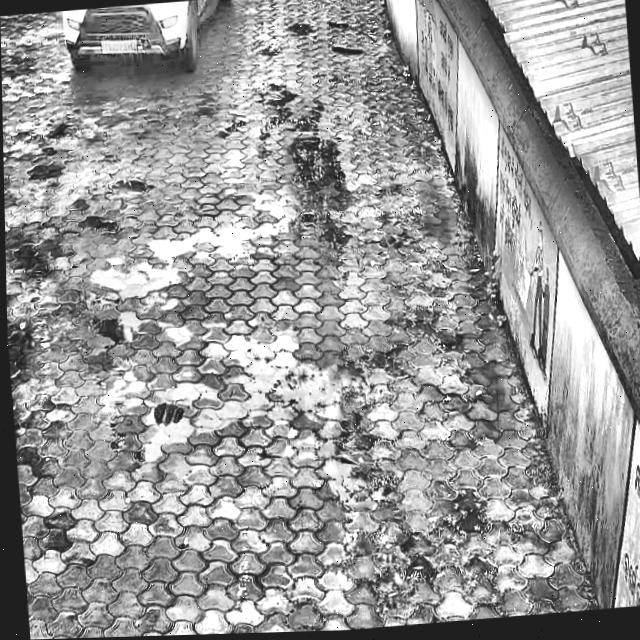light_vehicle: (67, 0, 256, 71)
